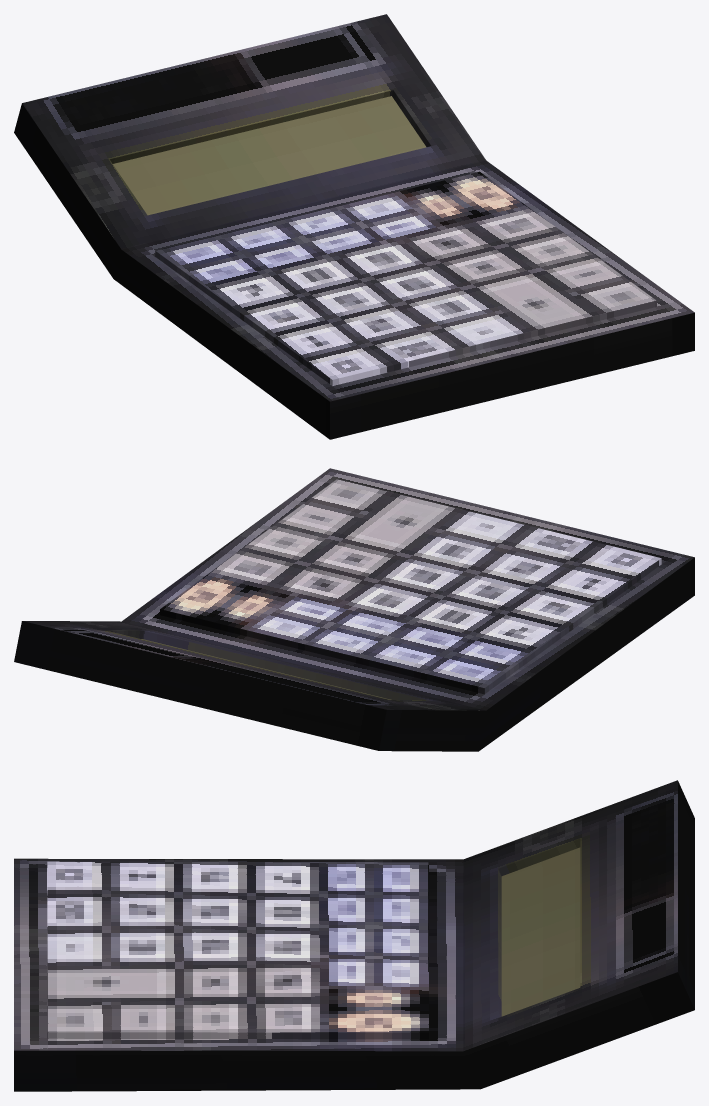
The model's file is Calculator.glb.
3 renders of one model, top to bottom at view 1: azimuth 30°, elevation 25°; view 2: azimuth 150°, elevation 25°; view 3: azimuth 270°, elevation 25°, orthographic. The views are drawn at different scales.
Visible parts, largest first — view 1: Calculator; view 2: Calculator; view 3: Calculator.
Part boxes in pixels (x1,y1,x2,y2): Calculator: (14, 14, 694, 439); Calculator: (14, 468, 694, 751); Calculator: (14, 780, 694, 1091).
Size of the model in its own units: 0.25 by 0.0727 by 0.375.
Materials: 1 (1 with a texture image).
